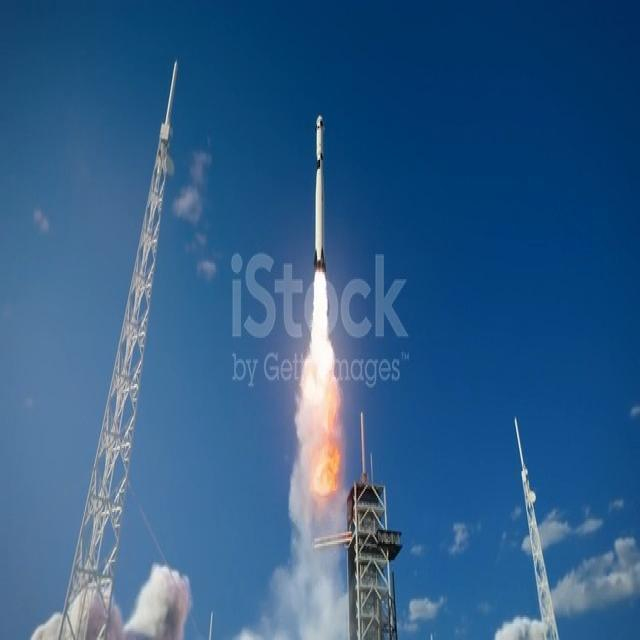Missile: (309, 108, 332, 286)
